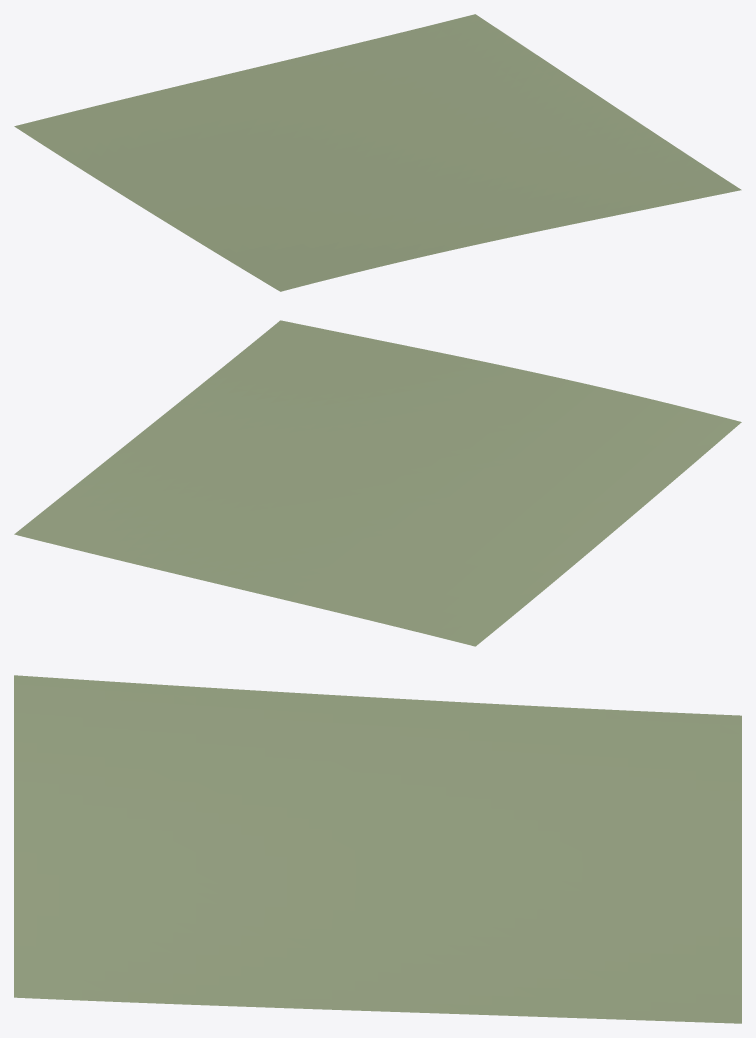
File: expanse-17-14.glb
3 renders of one model, top to bottom at view 1: azimuth 30°, elevation 25°; view 2: azimuth 150°, elevation 25°; view 3: azimuth 270°, elevation 25°, orthographic. The views are drawn at different scales.
Visible parts, largest first — view 1: expanse-17-14; view 2: expanse-17-14; view 3: expanse-17-14.
Part boxes in pixels (bbox=[...]): expanse-17-14: bbox=[14, 14, 741, 291]; expanse-17-14: bbox=[14, 320, 741, 646]; expanse-17-14: bbox=[14, 675, 741, 1023].
Size of the model in its own units: 256 by 16.43 by 256.
